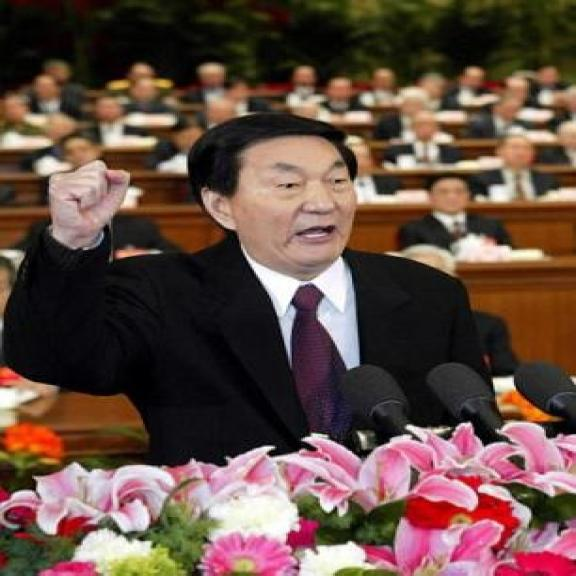face: (210, 140, 356, 270), (62, 136, 106, 176), (430, 178, 472, 218), (497, 136, 535, 171), (220, 79, 256, 108), (210, 97, 241, 130), (171, 126, 207, 151), (34, 76, 66, 104), (49, 115, 81, 141), (94, 96, 125, 122), (413, 112, 439, 142), (494, 96, 524, 122), (418, 74, 448, 100), (498, 81, 534, 102), (3, 95, 28, 124), (465, 66, 489, 95), (134, 84, 164, 107), (48, 62, 74, 88), (327, 78, 354, 102), (199, 69, 227, 90), (293, 67, 316, 91), (372, 67, 393, 93), (554, 128, 576, 149), (540, 66, 560, 87), (133, 65, 153, 85), (563, 94, 576, 115)
